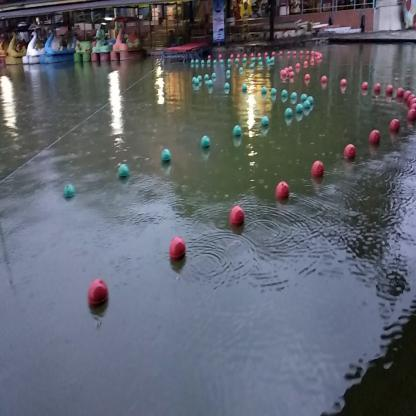green_buoy: (118, 163, 129, 178), (64, 184, 75, 198), (200, 133, 210, 148), (162, 148, 170, 163), (233, 124, 241, 136), (284, 108, 293, 118), (261, 116, 269, 127), (290, 92, 298, 100), (300, 94, 308, 102), (296, 104, 303, 113), (307, 96, 314, 104), (281, 89, 287, 98), (271, 88, 277, 96), (304, 102, 310, 110), (224, 83, 229, 90), (261, 86, 266, 93), (242, 85, 247, 91)
red_buoy: (87, 279, 108, 306), (168, 237, 186, 259), (229, 206, 244, 228), (310, 161, 324, 180), (276, 180, 289, 200), (344, 142, 355, 158), (370, 130, 380, 145), (390, 118, 399, 134), (408, 110, 415, 122), (386, 84, 393, 95), (396, 89, 404, 98), (404, 90, 411, 100), (362, 82, 368, 91), (374, 84, 380, 93), (304, 73, 310, 81), (340, 79, 346, 87), (289, 72, 294, 80), (282, 71, 286, 80), (322, 76, 326, 82)
